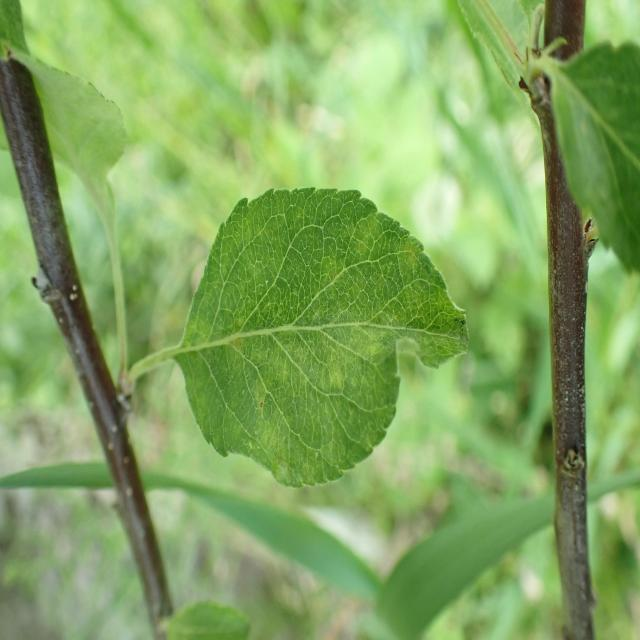scab: (185, 217, 402, 452)
